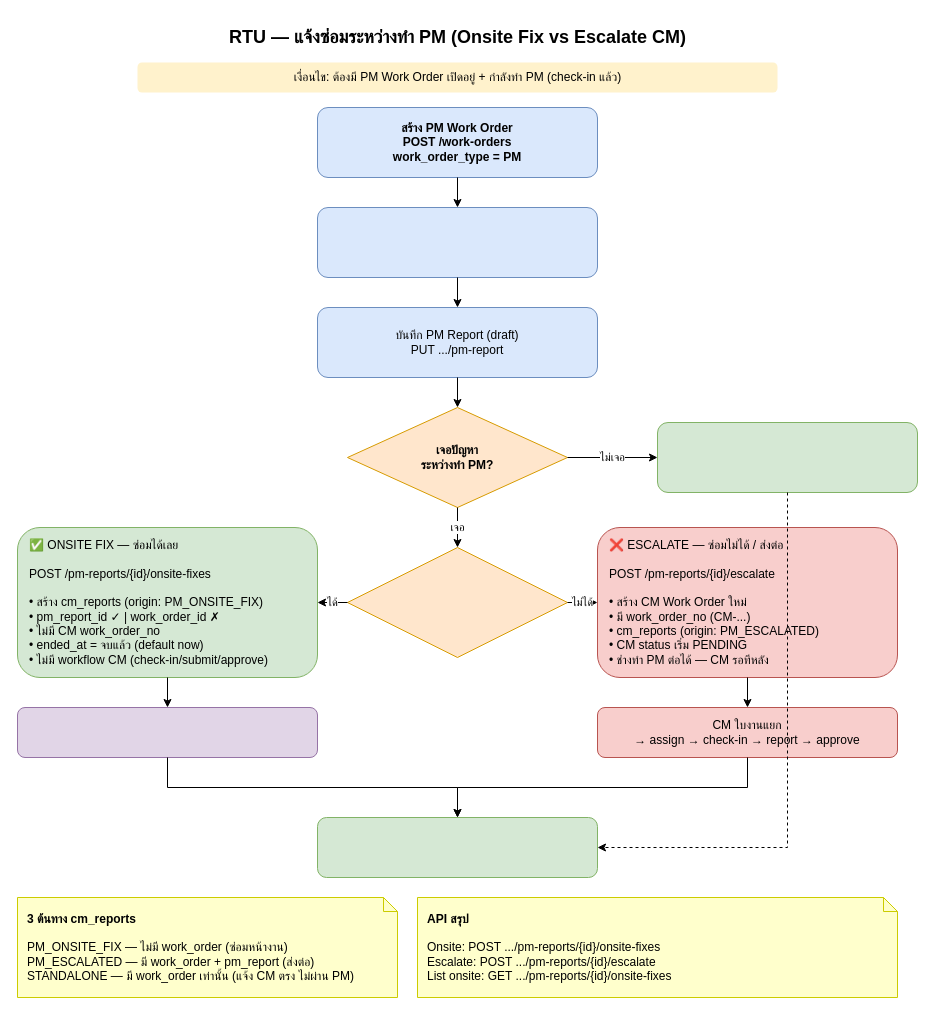
Some shapes in this 935 by 1015 pixel diagram are drawn without their labels. The shapes that lost their labels are listed below. From the top down, each one's centre as x and y in pixels, then its label:
At (457,242): "Check-in POST .../check-in status → IN_PROGRESS".
At (787,457): "ทำ checklist PM ต่อ → Submit PM Report → Approval → COMPLETED".
At (457,602): "ซ่อมหน้างาน ได้ไหม? (จบในวัน)".
At (167,732): "ทำ PM ต่อได้ตามปกติ (checklist ไม่ขาด)".
At (457,847): "Submit PM Report + Approve PM (ใบ PM ปิดตาม workflow ปกติ)".
